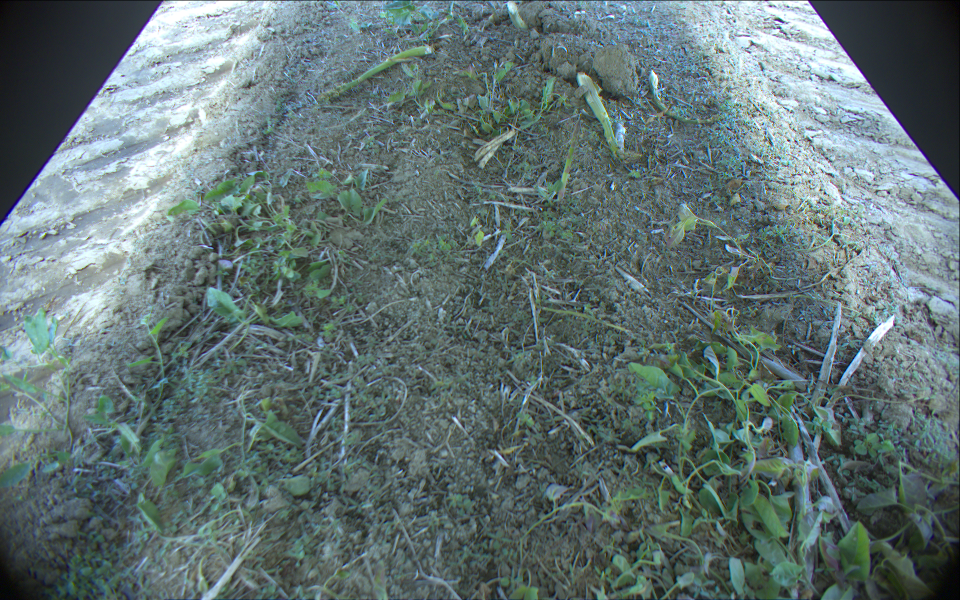aspa: (316, 43, 433, 103), (647, 68, 720, 122), (578, 71, 620, 157), (558, 118, 584, 200), (507, 1, 524, 31)
